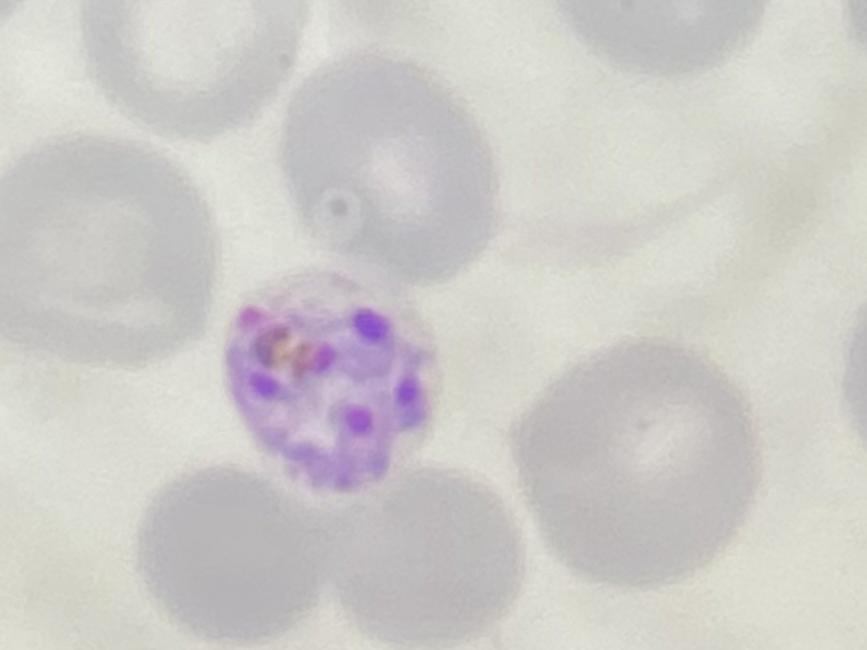Infected: (221, 267, 442, 494)
Uninfected: (516, 343, 755, 585), (0, 130, 224, 368), (279, 51, 501, 283), (132, 465, 330, 646), (338, 461, 523, 649), (84, 0, 299, 147)
